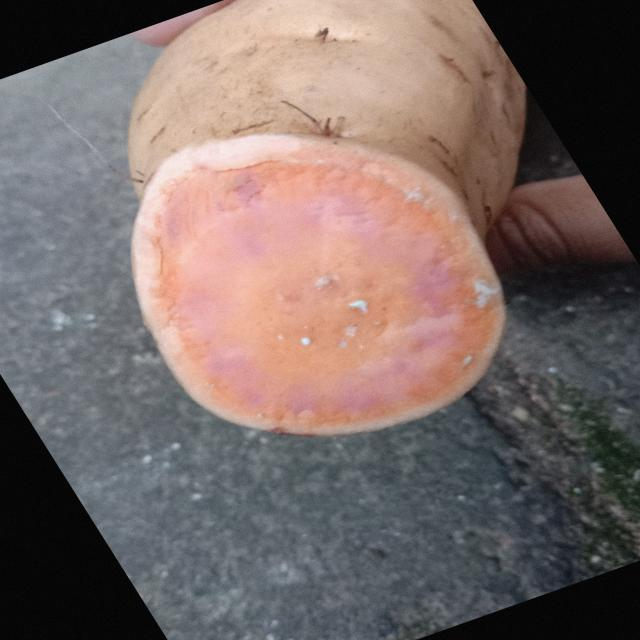Healthy Sweet Potato: (133, 136, 503, 435)
